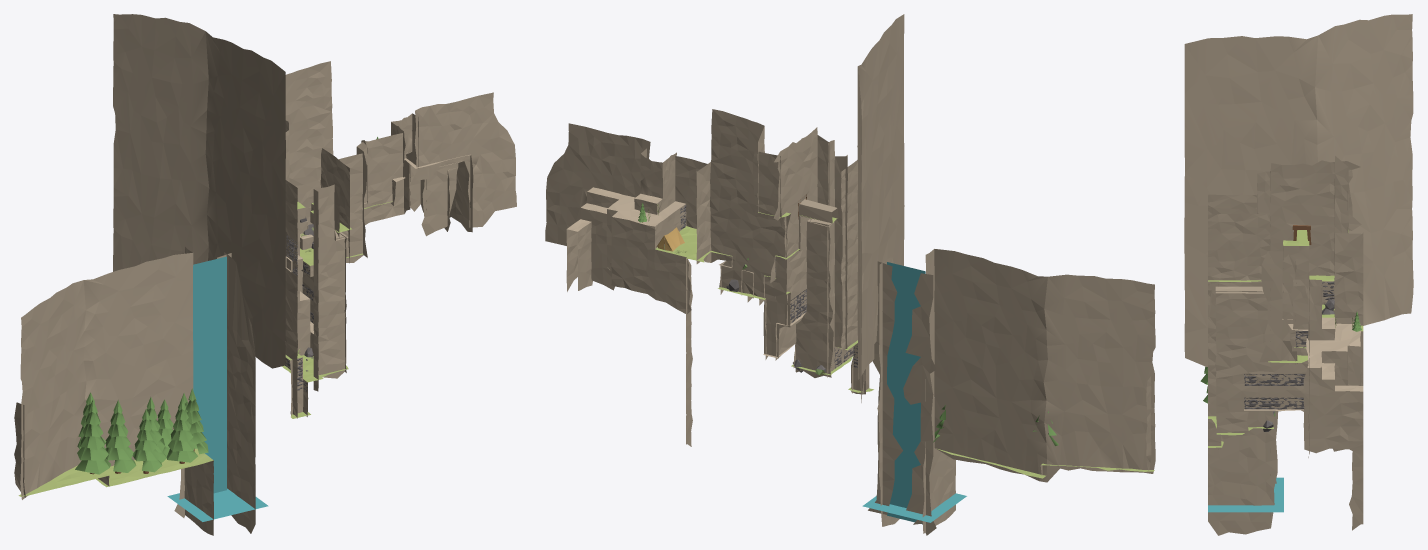
3 renders of one model, left to right at view 1: azimuth 30°, elevation 25°; view 2: azimuth 150°, elevation 25°; view 3: azimuth 270°, elevation 25°, orthographic. The views are drawn at different scales.
Visible parts, largest first — view 1: 9; view 2: 9; view 3: 9.
Boxes of the visible parts, <box> form: 9: <box>14,14,516,535</box>; 9: <box>545,14,1155,535</box>; 9: <box>1184,14,1413,535</box>.
Bounding box in the file's own units: 51.92 × 43.18 × 17.72.
Materials: 1 (1 with a texture image).
